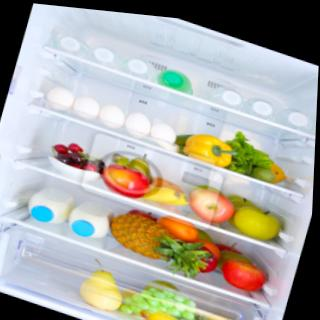Egg: (146, 116, 181, 151), (122, 107, 157, 142), (97, 99, 131, 133), (72, 89, 106, 123), (46, 80, 80, 114)
Milk: (23, 177, 74, 236), (63, 190, 115, 247)
fruit: (74, 262, 127, 319), (99, 156, 156, 208), (219, 248, 272, 298), (185, 185, 236, 232), (231, 200, 283, 245), (138, 286, 194, 320)
